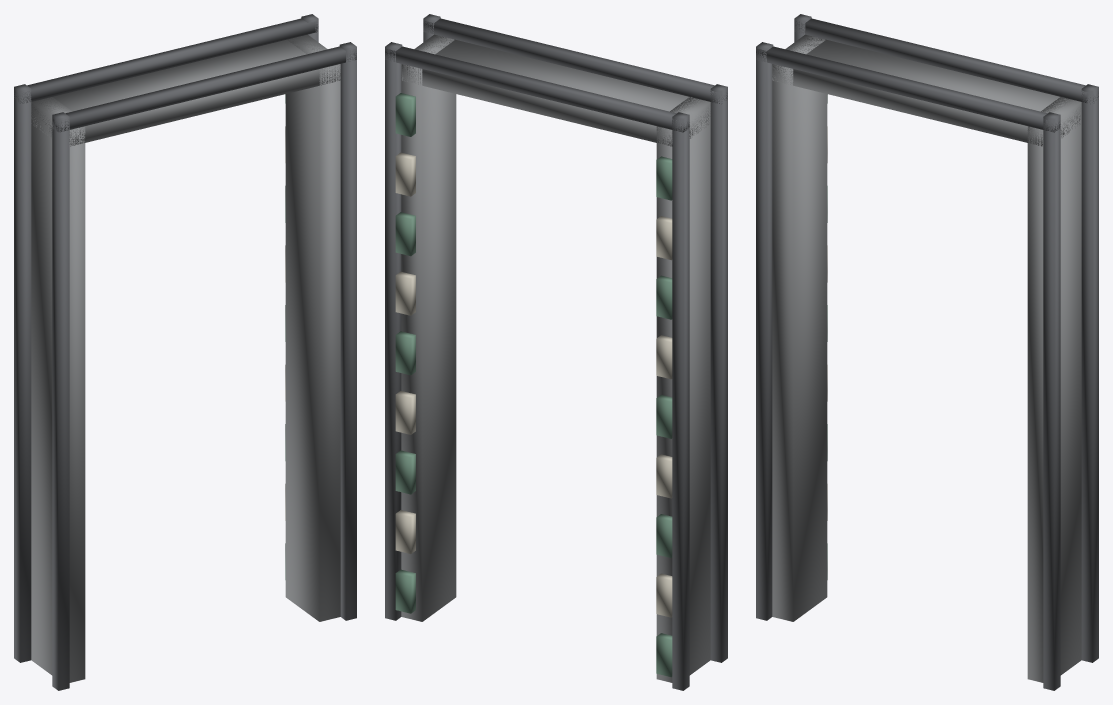
The model's file is doorway_tile_return_w96_h210_d24.glb.
3 views of the same model, side by side, from view 1: azimuth 30°, elevation 25°; view 2: azimuth 150°, elevation 25°; view 3: azimuth 330°, elevation 25° (orthographic).
Parts seen in each view (by area): view 1: world; view 2: world; view 3: world.
Boxes of the visible parts, x1,y1,x2,y2 form: world: (14,14,356,690); world: (385,14,727,690); world: (756,14,1098,690).
Size of the model in its own units: 1.22 by 2.24 by 0.3207.
